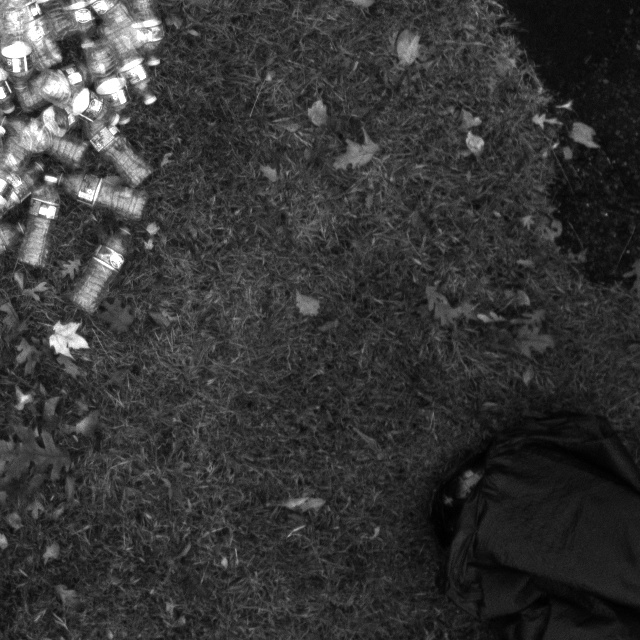bottle: (56, 222, 138, 316), (90, 3, 161, 106), (0, 110, 94, 174), (79, 109, 155, 186), (9, 168, 67, 267), (75, 33, 137, 124), (54, 168, 151, 219), (21, 56, 103, 109), (118, 0, 165, 70), (48, 0, 109, 49)
